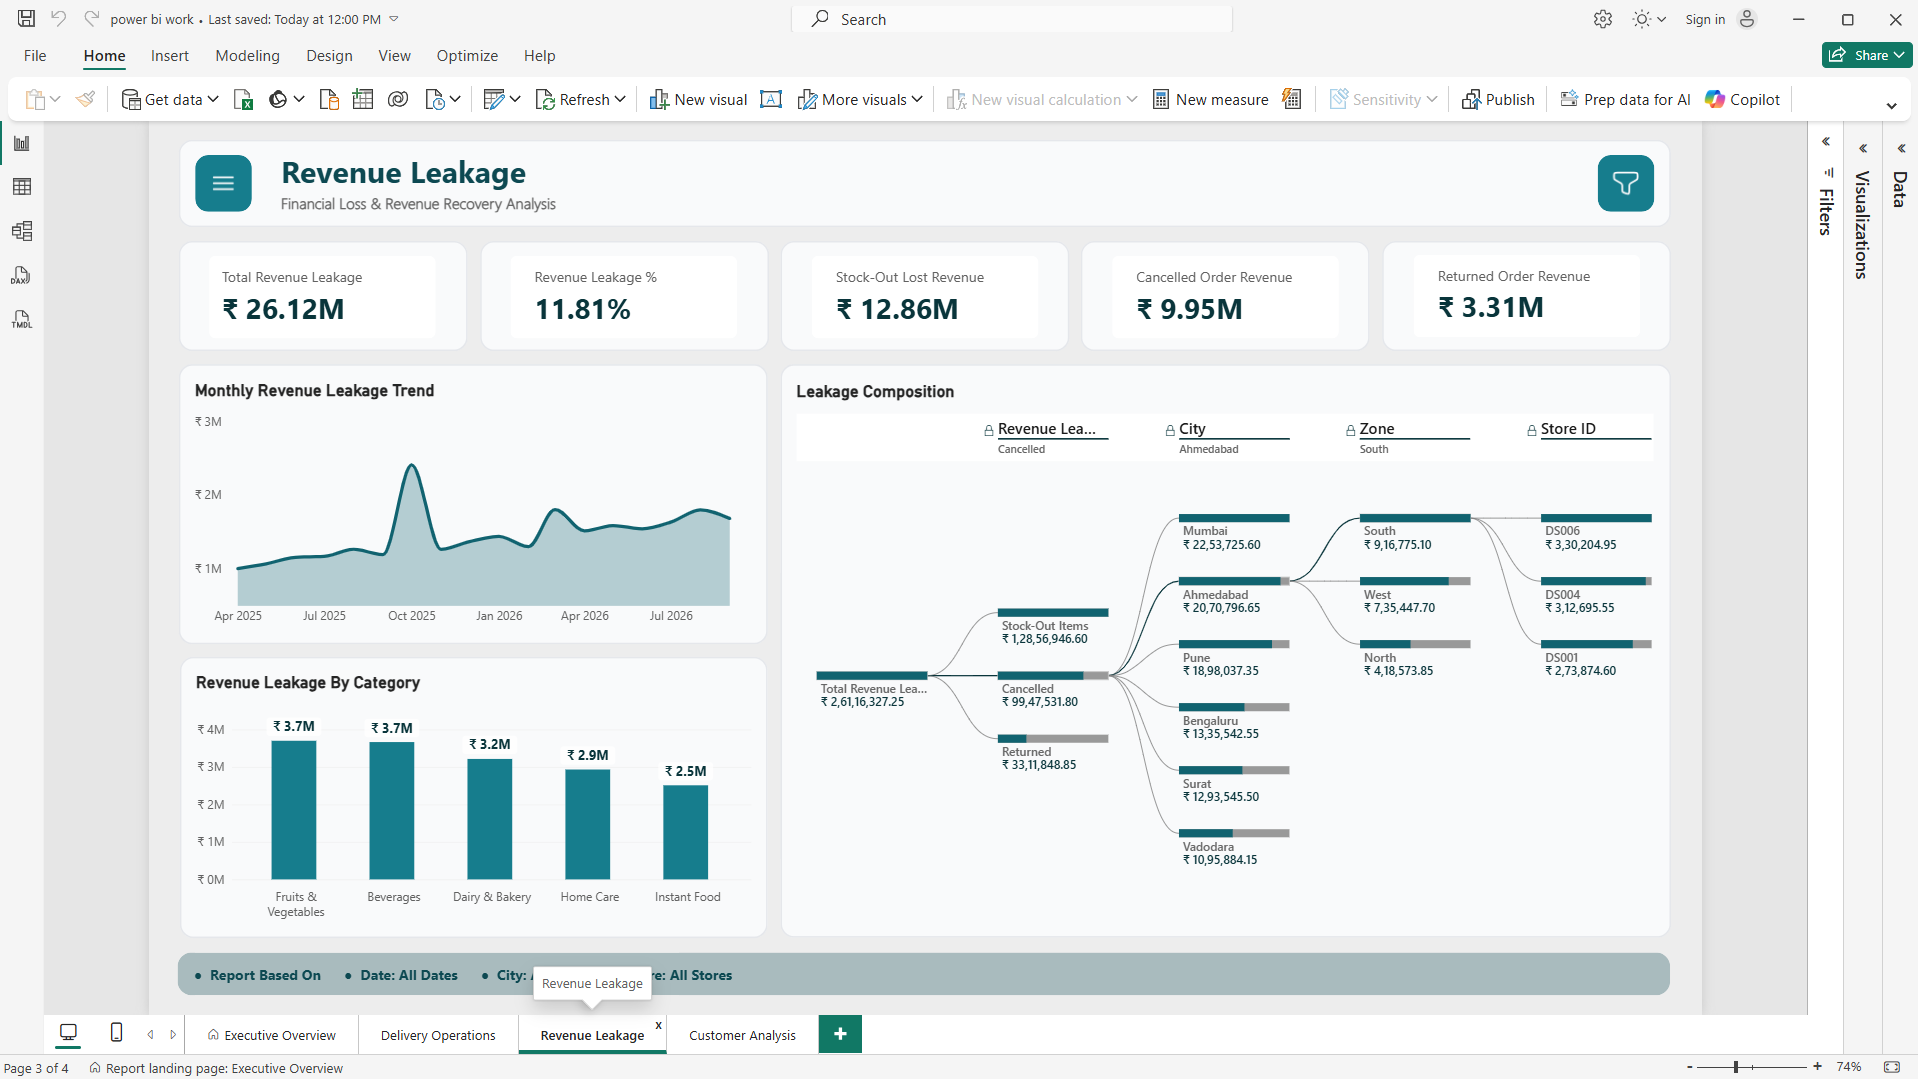

Layout of this report page (visuals, bound fields, positions):
{"tool":"powerbi","page":{"name":"Revenue Leakage","canvas":[1920,1105],"ordinal":2},"visuals":[{"type":"shape","box":[37.1,22.9,1844.1,108.2],"z":0},{"type":"shape","box":[36.7,300.9,728,346.4],"z":1000},{"type":"shape","box":[37.1,148.2,357.2,136.3],"z":2000},{"type":"shape","box":[780.9,300.9,1100.8,708.9],"z":3000},{"type":"shape","box":[38.2,662,726.6,347.9],"z":4000},{"type":"shape","box":[35.7,1027.1,1844.5,52.7],"z":5000},{"type":"shape","box":[408.7,148.2,357.2,136.3],"z":6000},{"type":"shape","box":[780.3,148.2,357.2,136.3],"z":7000},{"type":"shape","box":[1151.8,148.2,357.2,136.3],"z":8000},{"type":"shape","box":[1523.4,148.2,357.2,136.3],"z":9000},{"type":"cardVisual","title":"ss","fields":{"Data":["Revenue Leakage Analysis.Total Revenue Leakage"]},"box":[57.1,149.4,314.9,136.2],"z":10000},{"type":"cardVisual","fields":{"Data":["Revenue Leakage Analysis.Revenue Leakage %"]},"box":[429.2,149.4,314.9,136.2],"z":11000},{"type":"cardVisual","fields":{"Data":["Revenue Leakage Analysis.Stock-Out Lost Revenue"]},"box":[802.7,149.4,314.9,136.2],"z":12000},{"type":"cardVisual","fields":{"Data":["Revenue Leakage Analysis.Cancelled Order Revenue"]},"box":[1173.3,149.4,314.9,136.2],"z":13000},{"type":"cardVisual","fields":{"Data":["Revenue Leakage Analysis.Returned Order Revenue"]},"box":[1545.4,147.9,314.9,136.2],"z":14000},{"type":"actionButton","box":[56.7,41.7,70,70],"z":15000},{"type":"actionButton","box":[1790,41.7,70,70],"z":16000},{"type":"shape","box":[163.3,58.3,416.2,54.2],"z":17000},{"type":"shape","box":[163.3,31.7,416.2,54.2],"z":18000},{"type":"lineChart","title":"Monthly Revenue Leakage Trend","fields":{"Category":["calender.Date.Variation.Date Hierarchy.Year","calender.Date.Variation.Date Hierarchy.Month"],"Y":["Revenue Leakage Analysis.Total Revenue Leakage"]},"box":[36.7,300.9,728,346.4],"z":19000},{"type":"columnChart","title":"Revenue Leakage By Category","fields":{"Category":["products.category"],"Y":["Revenue Leakage Analysis.Total Revenue Leakage"]},"box":[38.2,662,726.6,347.9],"z":20000},{"type":"decompositionTreeVisual","title":"Leakage Composition","fields":{"Analyze":["Revenue Leakage Analysis.Total Revenue Leakage"],"ExplainBy":["orders.Revenue Leakage Type","stores.city","stores.zone","stores.store_id"]},"box":[780.3,301.6,1099.5,708.4],"z":23000}]}

Visuals, with their boxes on the page's 1920x1105 design canvas (x1, y1, x2, y2). These are canvas units, not pixel positions in the 1918x1079 screenshot, which may show the page scaled, cropped or inside an application window:
shape: left=37, top=23, right=1881, bottom=131
shape: left=37, top=301, right=765, bottom=647
shape: left=37, top=148, right=394, bottom=284
shape: left=781, top=301, right=1882, bottom=1010
shape: left=38, top=662, right=765, bottom=1010
shape: left=36, top=1027, right=1880, bottom=1080
shape: left=409, top=148, right=766, bottom=284
shape: left=780, top=148, right=1138, bottom=284
shape: left=1152, top=148, right=1509, bottom=284
shape: left=1523, top=148, right=1881, bottom=284
"ss" cardVisual: left=57, top=149, right=372, bottom=286
cardVisual - Revenue Leakage Analysis.Revenue Leakage %: left=429, top=149, right=744, bottom=286
cardVisual - Revenue Leakage Analysis.Stock-Out Lost Revenue: left=803, top=149, right=1118, bottom=286
cardVisual - Revenue Leakage Analysis.Cancelled Order Revenue: left=1173, top=149, right=1488, bottom=286
cardVisual - Revenue Leakage Analysis.Returned Order Revenue: left=1545, top=148, right=1860, bottom=284
actionButton: left=57, top=42, right=127, bottom=112
actionButton: left=1790, top=42, right=1860, bottom=112
shape: left=163, top=58, right=580, bottom=112
shape: left=163, top=32, right=580, bottom=86
"Monthly Revenue Leakage Trend" lineChart: left=37, top=301, right=765, bottom=647
"Revenue Leakage By Category" columnChart: left=38, top=662, right=765, bottom=1010
"Leakage Composition" decompositionTreeVisual: left=780, top=302, right=1880, bottom=1010
